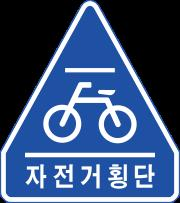Cycle Crossing: (13, 31, 174, 198)
